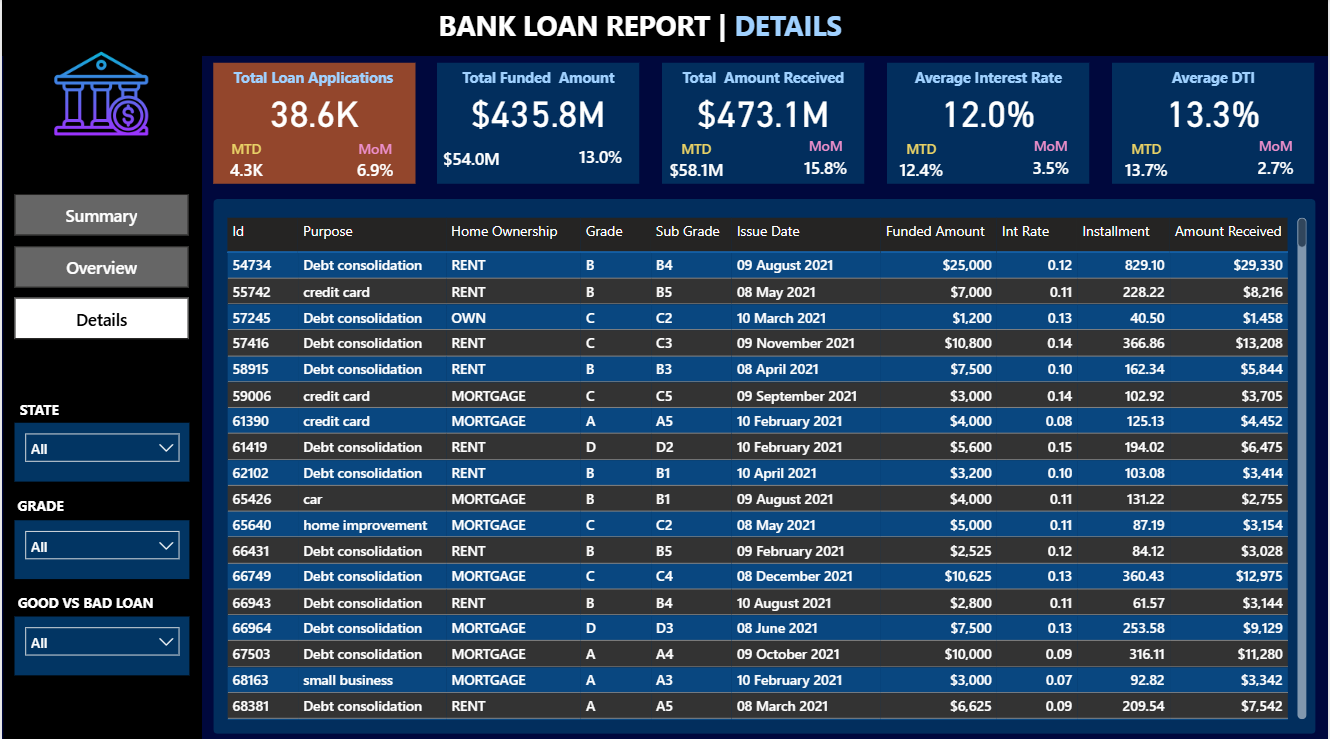

The dashboard page shown, as its layout file describes it:
{"tool":"powerbi","page":{"name":"Details","canvas":[1280,720],"ordinal":2},"visuals":[{"type":"shape","box":[0,0,1280.3,55],"z":0},{"type":"shape","box":[637.3,61.2,195.4,117],"z":0,"group":"g3"},{"type":"shape","box":[204.2,61.5,195.4,117],"z":0,"group":"g1"},{"type":"shape","box":[421,61.5,195.4,117],"z":0,"group":"g2"},{"type":"shape","box":[854.7,61.5,195.4,117],"z":0,"group":"g4"},{"type":"shape","box":[1072.2,61.5,195.4,117],"z":0,"group":"g5"},{"type":"card","fields":{"Values":["bank_loan_data.Total Amount Received"]},"box":[644.5,80.5,181,54.3],"z":1000,"group":"g3"},{"type":"card","fields":{"Values":["bank_loan_data.Total Loan Applications"]},"box":[211.4,80.8,181,54.3],"z":1000,"group":"g1"},{"type":"card","fields":{"Values":["bank_loan_data.Total Funded Amount"]},"box":[428.2,80.8,181,54.3],"z":1000,"group":"g2"},{"type":"card","fields":{"Values":["bank_loan_data.Avg Interest Rate"]},"box":[861.9,80.8,181,54.3],"z":1000,"group":"g4"},{"type":"card","fields":{"Values":["bank_loan_data.Avg DTI"]},"box":[1079.4,80.8,181,54.3],"z":1000,"group":"g5"},{"type":"shape","box":[203.9,193,1064.1,516.4],"z":1000},{"type":"shape","box":[1.2,54.3,191.8,666],"z":2000},{"type":"textbox","box":[643.9,61.2,181,30.2],"z":2000,"group":"g3"},{"type":"textbox","box":[210.2,61.5,181,33.8],"z":2000,"group":"g1"},{"type":"textbox","box":[427.6,61.5,181,30.2],"z":2000,"group":"g2"},{"type":"textbox","box":[861.3,61.5,181,30.2],"z":2000,"group":"g4"},{"type":"textbox","box":[1078.8,61.5,181,30.2],"z":2000,"group":"g5"},{"type":"textbox","box":[416.2,2.4,447.6,51.9],"z":3000},{"type":"card","title":"MTD","fields":{"Values":["bank_loan_data.MTD Loan Applications"]},"box":[204.2,135.1,63.9,43.4],"z":3000,"group":"g1"},{"type":"card","title":"MTD","fields":{"Values":["bank_loan_data.MTD Total Amount Received"]},"box":[636.7,135.4,66.4,43.4],"z":3000,"group":"g3"},{"type":"card","title":"MTD","fields":{"Values":["bank_loan_data.MTD Funded Amount"]},"box":[420.4,135.7,66.4,43.4],"z":3000,"group":"g2"},{"type":"card","title":"MTD","fields":{"Values":["bank_loan_data.MTD Avg Interest Rate"]},"box":[854.1,135.7,66.4,43.4],"z":3000,"group":"g4"},{"type":"card","title":"MTD","fields":{"Values":["bank_loan_data.MTD Avg DTI"]},"box":[1071.6,135.7,66.4,43.4],"z":3000,"group":"g5"},{"type":"group","id":"g1","title":"Group 1","box":[204.2,61.5,195.4,117],"z":4000},{"type":"card","title":"MoM","fields":{"Values":["bank_loan_data.MoM Amount Received"]},"box":[759.8,132.4,70,43.4],"z":4000,"group":"g3"},{"type":"card","title":"MoM","fields":{"Values":["bank_loan_data.MoM Funded Amount"]},"box":[543.5,132.7,70,43.4],"z":4000,"group":"g2"},{"type":"card","title":"MoM","fields":{"Values":["bank_loan_data.MoM Avg Int Rate"]},"box":[977.2,132.7,70,43.4],"z":4000,"group":"g4"},{"type":"card","title":"MoM","fields":{"Values":["bank_loan_data.MoM Avg DTI"]},"box":[1194.7,132.7,70,43.4],"z":4000,"group":"g5"},{"type":"card","title":"MoM","fields":{"Values":["bank_loan_data.MoM Loan Application"]},"box":[328.5,135.1,63.9,43.4],"z":4000,"group":"g1"},{"type":"group","id":"g2","title":"Group 1","box":[420.4,61.5,195.4,117],"z":5000},{"type":"group","id":"g3","title":"Group 1","box":[636.7,61.2,196.6,118.2],"z":6000},{"type":"group","id":"g4","title":"Group 1","box":[854.1,61.5,196.6,118.2],"z":7000},{"type":"group","id":"g5","title":"Group 1","box":[1071.6,61.5,196.6,118.2],"z":8000},{"type":"slicer","fields":{"Values":["bank_loan_data.Good vs Bad Loan"]},"box":[12.1,595.8,168.9,56.7],"z":9000},{"type":"textbox","box":[0,565.6,156.8,33.8],"z":10000},{"type":"slicer","fields":{"Values":["bank_loan_data.grade"]},"box":[12.1,503.1,168.9,56.7],"z":11000},{"type":"slicer","fields":{"Values":["bank_loan_data.address_state"]},"box":[12.1,408.8,168.9,56.7],"z":12000},{"type":"textbox","box":[1.2,471.7,67.6,33.8],"z":13000},{"type":"textbox","box":[2.4,378.6,62.7,33.8],"z":14000},{"type":"tableEx","fields":{"Values":["bank_loan_data.id","bank_loan_data.purpose","bank_loan_data.home_ownership","bank_loan_data.grade","bank_loan_data.sub_grade","bank_loan_data.issue_date","bank_loan_data.Total Funded Amount","Sum(bank_loan_data.int_rate)","Sum(bank_loan_data.installment)","bank_loan_data.Total Amount Received"]},"box":[211.1,206.3,1053.2,493.4],"z":15000},{"type":"image","box":[43.4,27.7,105,126.7],"z":16000},{"type":"pageNavigator","box":[12.1,188.2,168.9,141.2],"z":17000}]}

Visuals, with their boxes in screenshot pixels (x1, y1, x2, y2), scaled from the page's 1280x720 canvas onto the 1330x739 screenshot:
shape: [0, 0, 1329, 56]
shape: [662, 63, 865, 183]
shape: [212, 63, 415, 183]
shape: [437, 63, 640, 183]
shape: [888, 63, 1091, 183]
shape: [1114, 63, 1317, 183]
card - bank_loan_data.Total Amount Received: [670, 83, 858, 138]
card - bank_loan_data.Total Loan Applications: [220, 83, 408, 139]
card - bank_loan_data.Total Funded Amount: [445, 83, 633, 139]
card - bank_loan_data.Avg Interest Rate: [896, 83, 1084, 139]
card - bank_loan_data.Avg DTI: [1122, 83, 1310, 139]
shape: [212, 198, 1318, 728]
shape: [1, 56, 201, 738]
textbox: [669, 63, 857, 94]
textbox: [218, 63, 406, 98]
textbox: [444, 63, 632, 94]
textbox: [895, 63, 1083, 94]
textbox: [1121, 63, 1309, 94]
textbox: [432, 2, 898, 56]
"MTD" card: [212, 139, 279, 183]
"MTD" card: [662, 139, 731, 184]
"MTD" card: [437, 139, 506, 184]
"MTD" card: [887, 139, 956, 184]
"MTD" card: [1113, 139, 1182, 184]
"Group 1" group: [212, 63, 415, 183]
"MoM" card: [789, 136, 862, 180]
"MoM" card: [565, 136, 637, 181]
"MoM" card: [1015, 136, 1088, 181]
"MoM" card: [1241, 136, 1314, 181]
"MoM" card: [341, 139, 408, 183]
"Group 1" group: [437, 63, 640, 183]
"Group 1" group: [662, 63, 866, 184]
"Group 1" group: [887, 63, 1092, 184]
"Group 1" group: [1113, 63, 1318, 184]
slicer - bank_loan_data.Good vs Bad Loan: [13, 612, 188, 670]
textbox: [0, 581, 163, 615]
slicer - bank_loan_data.grade: [13, 516, 188, 575]
slicer - bank_loan_data.address_state: [13, 420, 188, 478]
textbox: [1, 484, 71, 519]
textbox: [2, 389, 68, 423]
tableEx - bank_loan_data.id x bank_loan_data.purpose: [219, 212, 1314, 718]
image: [45, 28, 154, 158]
pageNavigator: [13, 193, 188, 338]
